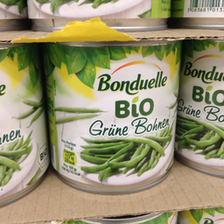beans: (44, 42, 179, 197), (1, 44, 39, 205), (182, 38, 224, 179)
